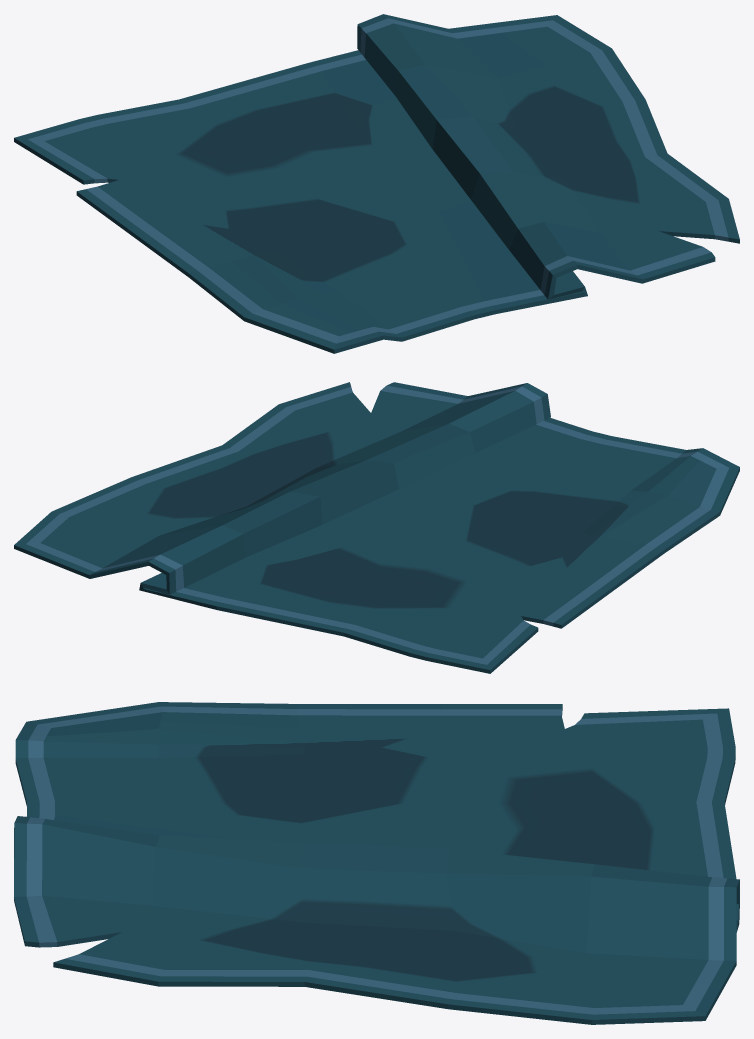
Rendered from SM_Carpet_C.gltf.
The picture shows the model from 3 angles, top to bottom: view 1: azimuth 30°, elevation 25°; view 2: azimuth 150°, elevation 25°; view 3: azimuth 270°, elevation 25°; orthographic projection. The views are drawn at different scales.
Visible parts, largest first — view 1: SM_Carpet_C; view 2: SM_Carpet_C; view 3: SM_Carpet_C.
Boxes of the visible parts, x1,y1,x2,y2 form: SM_Carpet_C: (14,14,739,353); SM_Carpet_C: (14,382,739,673); SM_Carpet_C: (14,702,739,1024).
Bounding box in the file's own units: 2.08 × 0.1254 × 2.01.
Materials: 1 (1 with a texture image).
